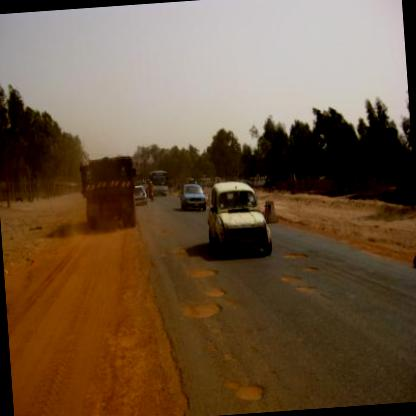car: (205, 178, 273, 260), (180, 182, 206, 212), (131, 186, 147, 206), (134, 180, 148, 186)
